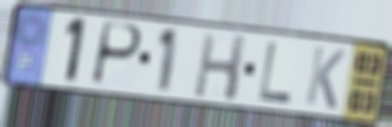1: (62, 17, 90, 88), (155, 27, 182, 95)
H: (191, 31, 250, 105)
K: (303, 44, 349, 113)
L: (256, 40, 294, 106)
P: (88, 19, 145, 89)
